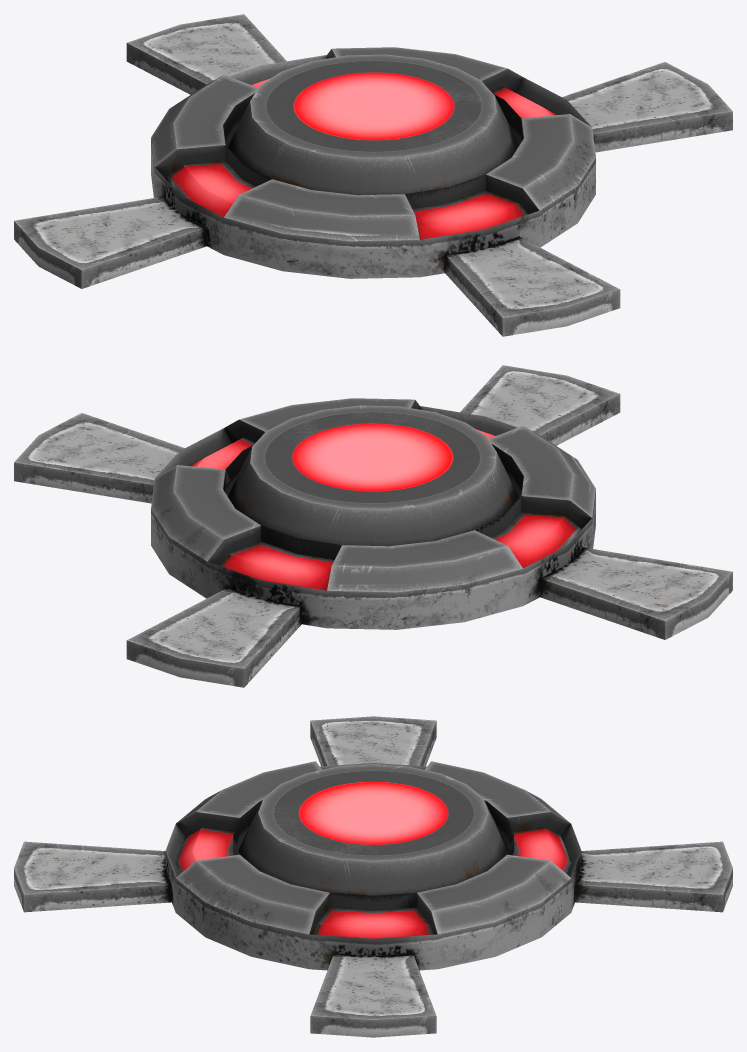
Rendered from land_mine.glb.
The picture shows the model from 3 angles, top to bottom: view 1: azimuth 30°, elevation 25°; view 2: azimuth 150°, elevation 25°; view 3: azimuth 270°, elevation 25°; orthographic projection. The views are drawn at different scales.
Parts seen in each view (by area): view 1: polySurface1; view 2: polySurface1; view 3: polySurface1.
Boxes of the visible parts, bbox=[...] form: polySurface1: bbox=[14, 14, 732, 336]; polySurface1: bbox=[14, 365, 732, 687]; polySurface1: bbox=[14, 716, 732, 1037].
Bounding box in the file's own units: 8.66 × 0.9662 × 8.66.
1 material, 1 textured.
